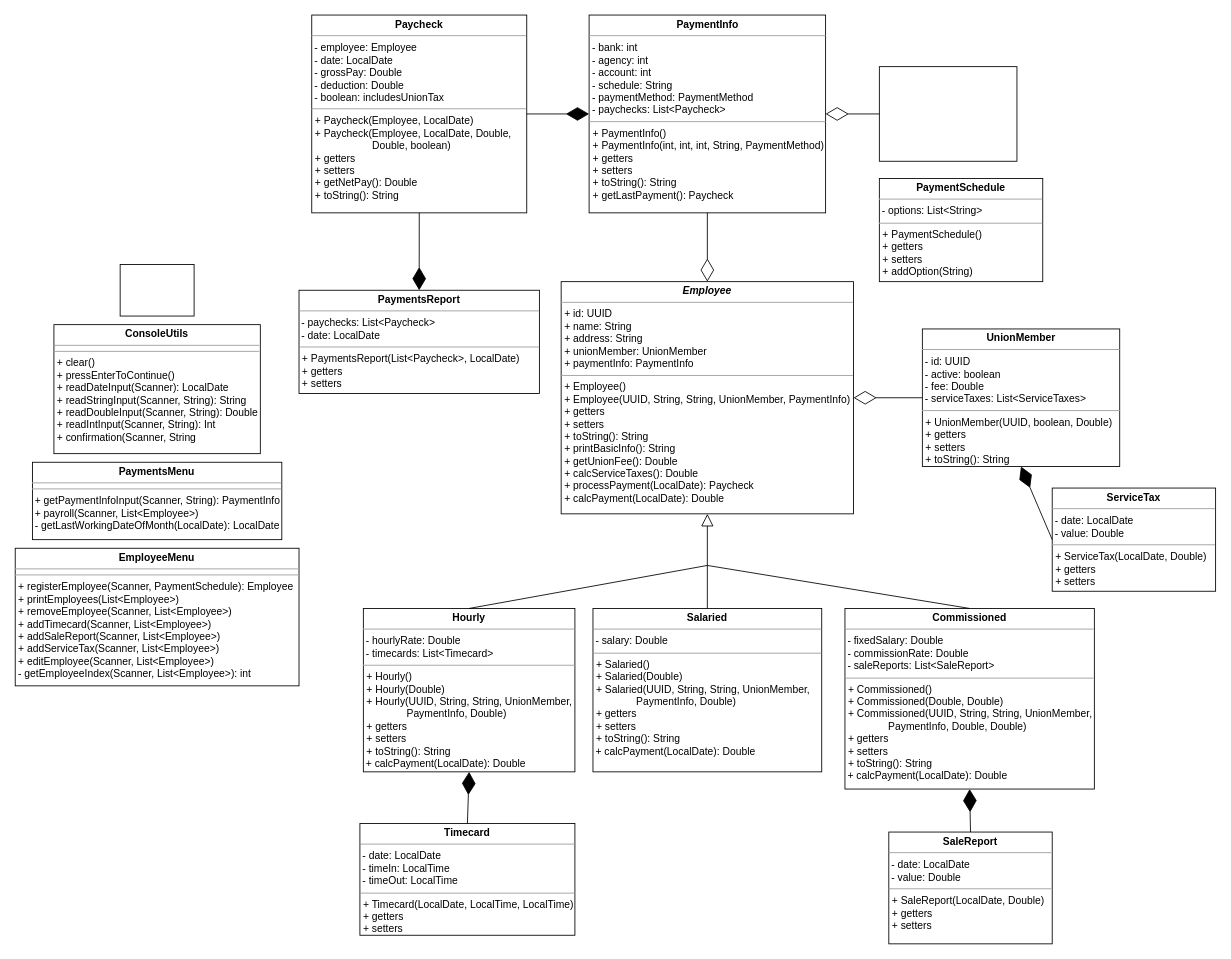
Some shapes in this 1231 by 959 pixel diagram are drawn without their labels. The box of each missing label's shape, as (x1, y1, x2, y2) in pixels:
PaymentMethod MAIL_CHECK HANDS_CHECK BANK_DEPOSIT methodDescription: String: (878, 66, 1017, 161)
PayrollApp + main(): (119, 264, 194, 316)
